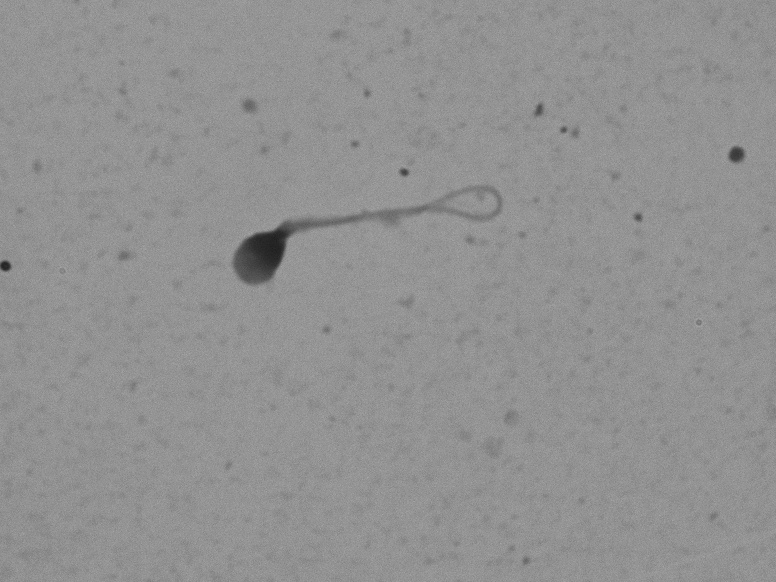Abnormal: (191, 149, 524, 310)
